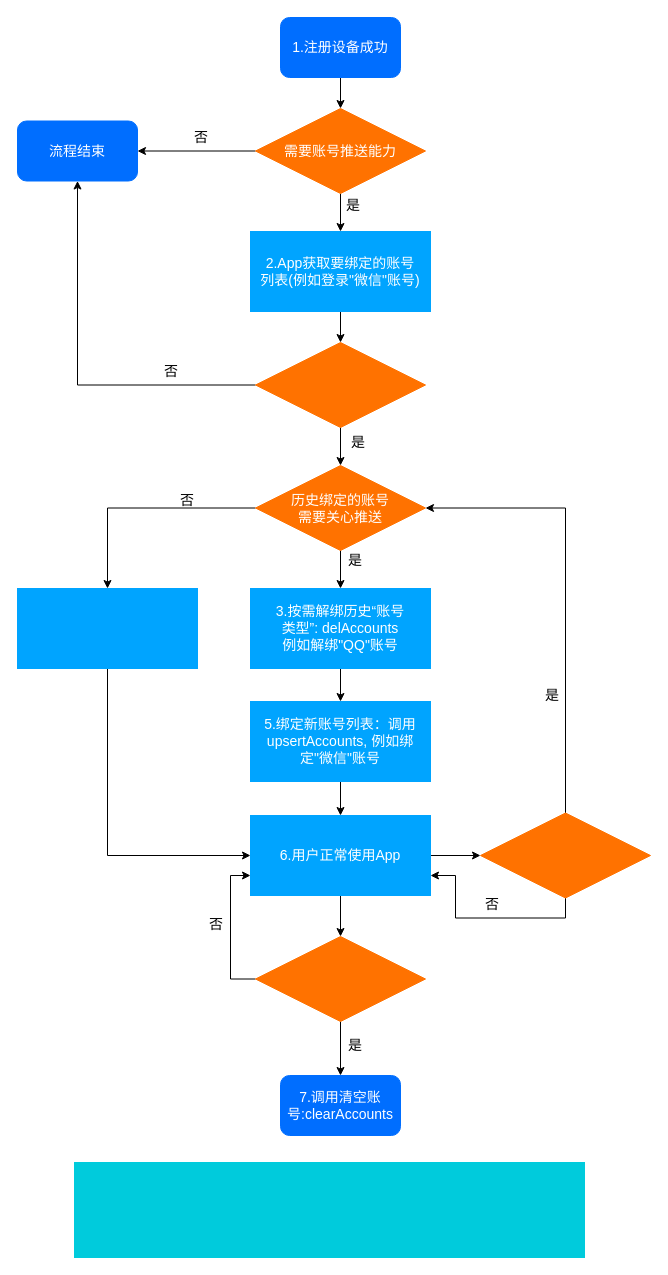
Image size: 668x1275. Some labels were removed from this diagram. The shapes that lost their labels are listed below. From the top down, each one's box as (x1, y1, x2, y2) in pixels, then its label:
(254, 342, 426, 428): 是否获取成功
(16, 588, 198, 668): 4.清空历史账号 并绑定新账号: clearAndAppendAccounts
(480, 812, 650, 898): 需要变更绑定 的账号列表
(254, 936, 426, 1022): 完全关闭账号 推送能力
(74, 1162, 584, 1258): 备注 同一种账号类型只支持绑定一个账号
